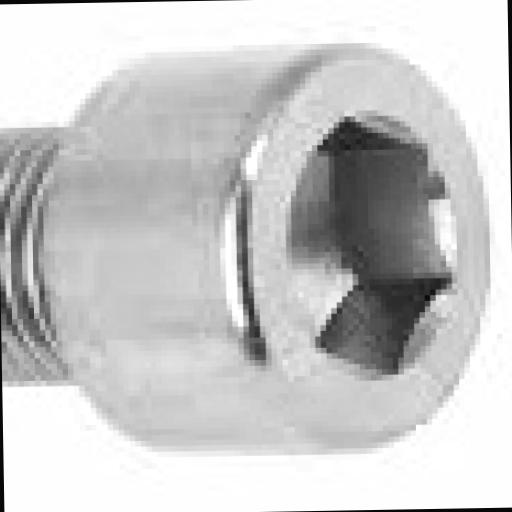Hex-Allen: (34, 18, 512, 469)
